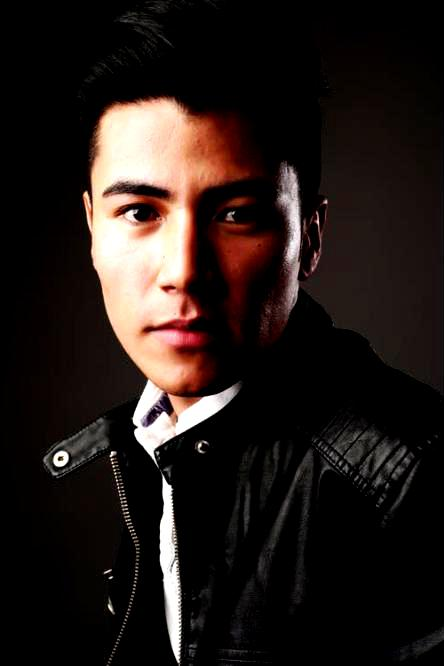face: (95, 103, 302, 392)
